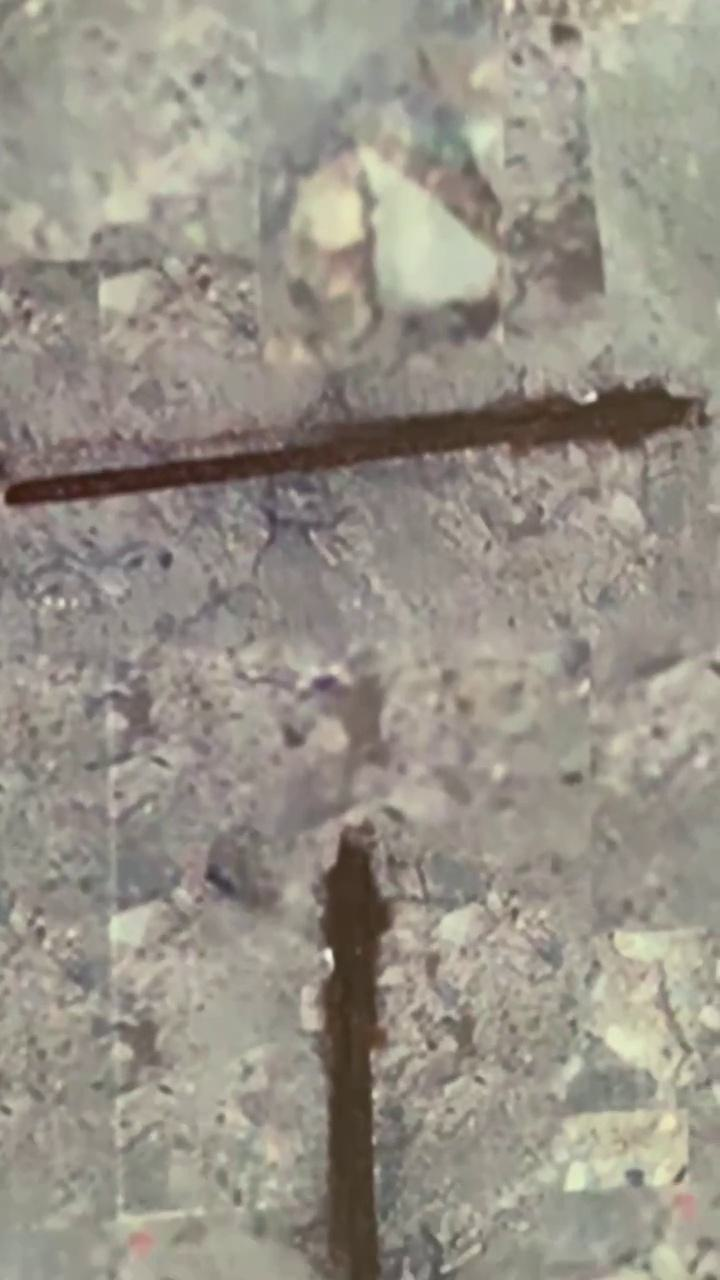Exposed reinforcement: (2, 386, 706, 508), (318, 821, 394, 1280)
